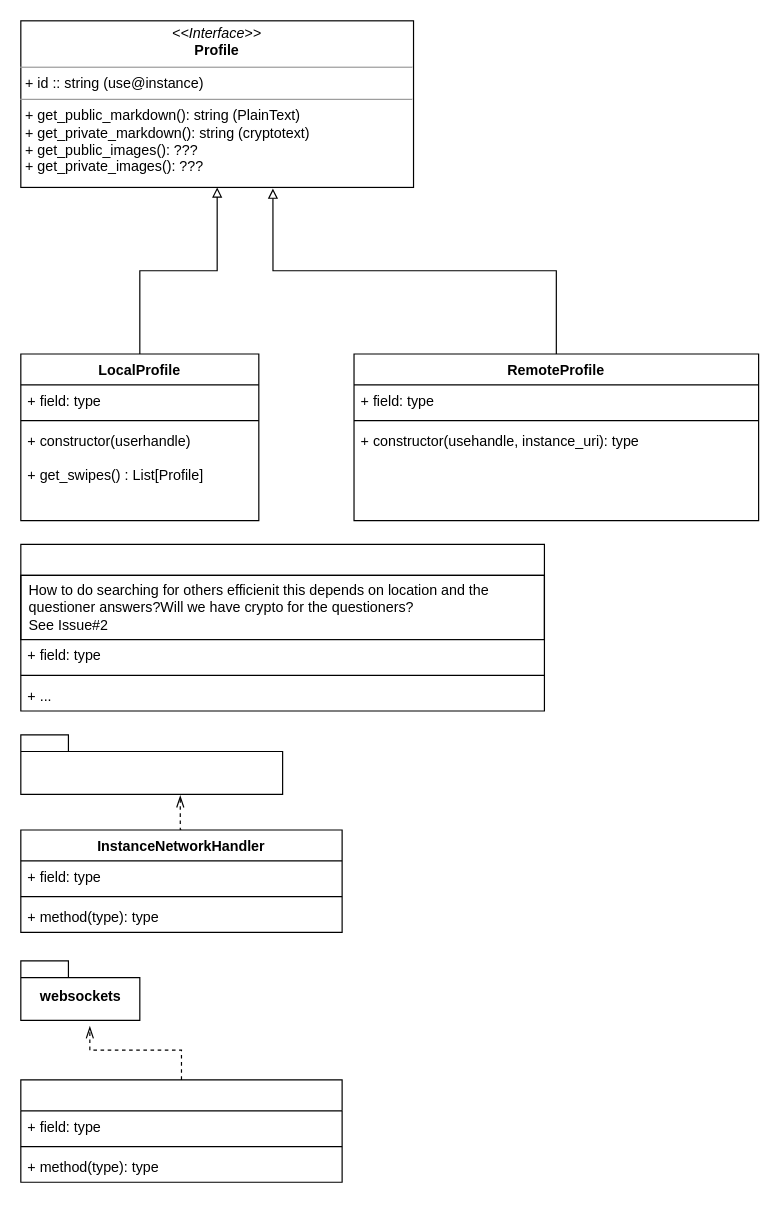
Image size: 779x1207. Some labels were removed from this diagram. The shapes that lost their labels are listed below. From the top down, each one's box as (x1, y1, x2, y2) in pixels, then its label:
(20, 543, 544, 711): Matchmaker
(20, 734, 283, 794): twisted?? raw sockets?
(20, 1079, 342, 1182): ClientNetworkHandler
